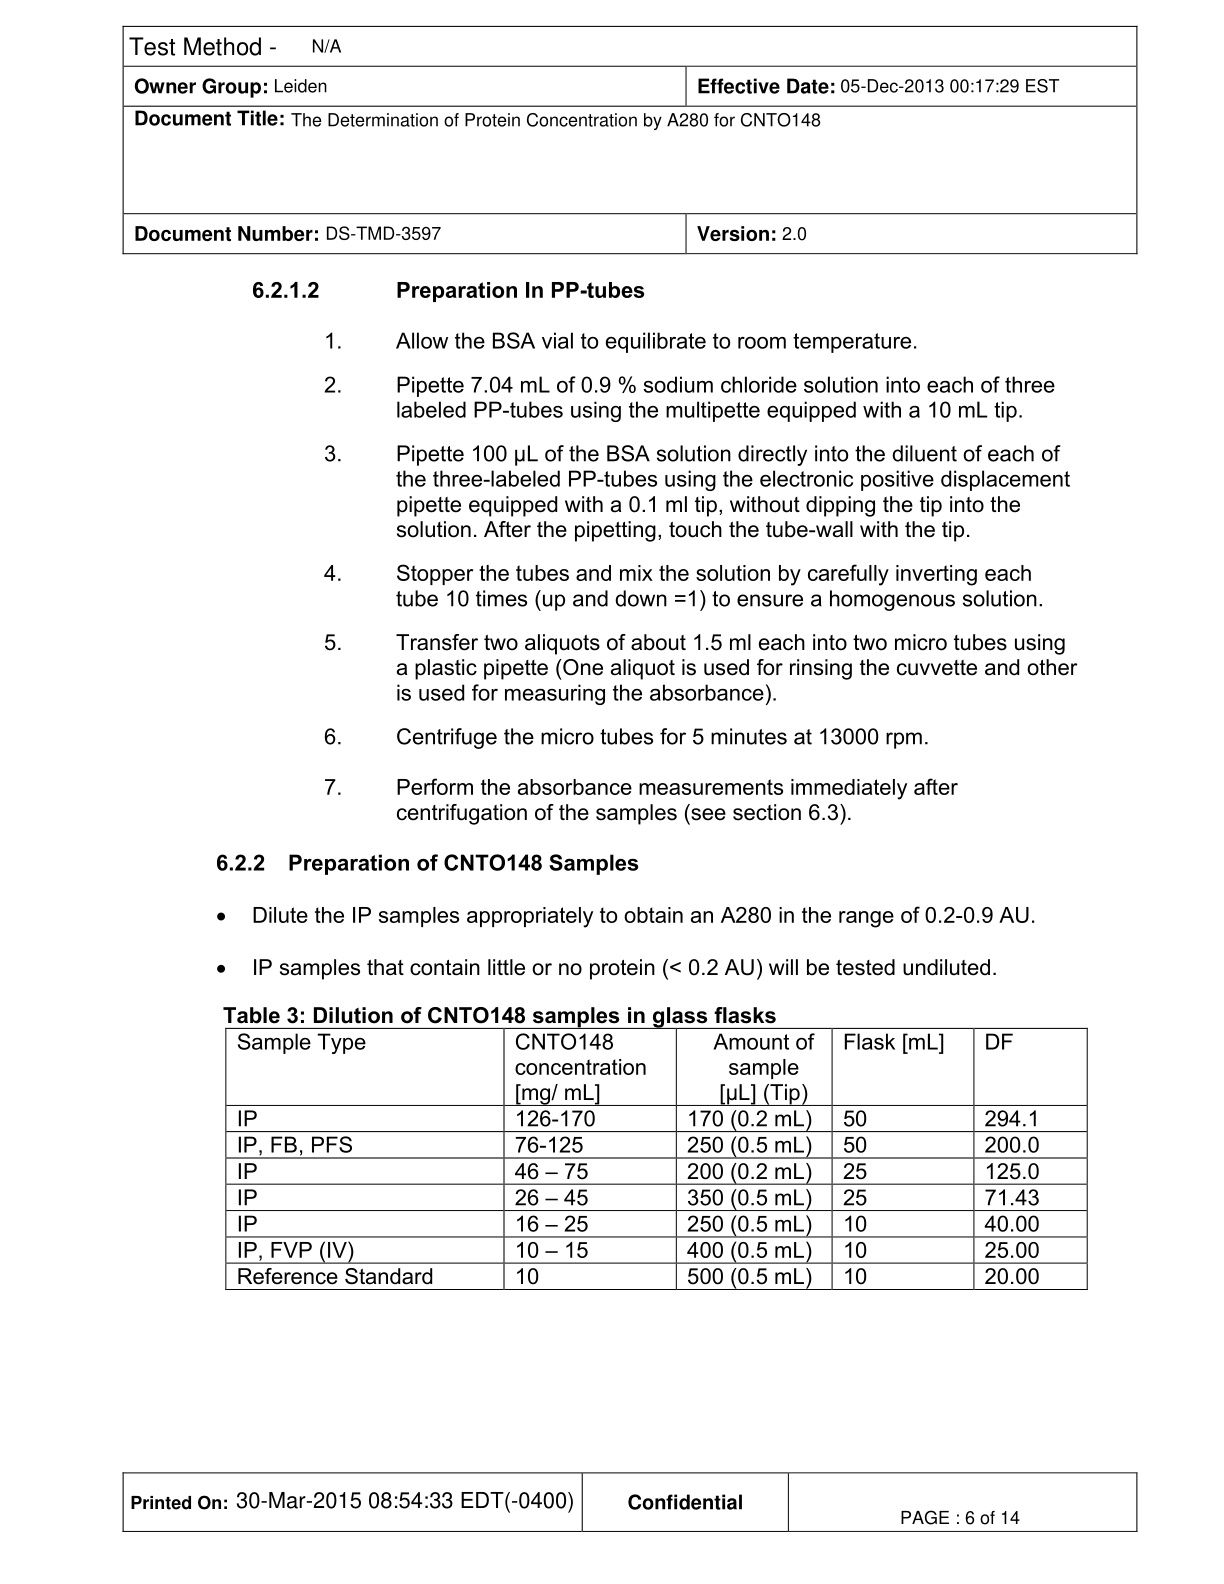full_lined: (224, 1026, 1089, 1291), (120, 1470, 1139, 1533)
merged_cells: (121, 24, 1139, 256)
